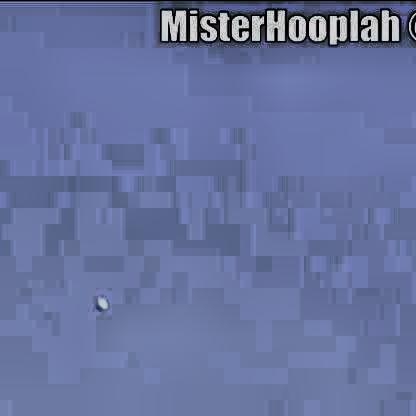golfball: (92, 293, 105, 309)
